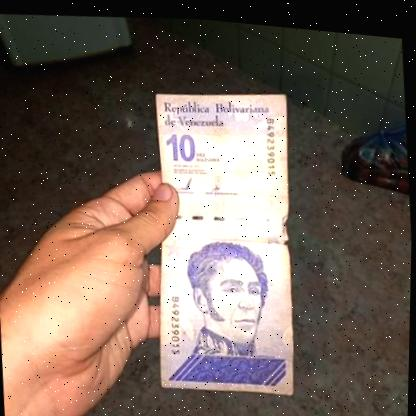ten-front-vef: (139, 78, 306, 400)
